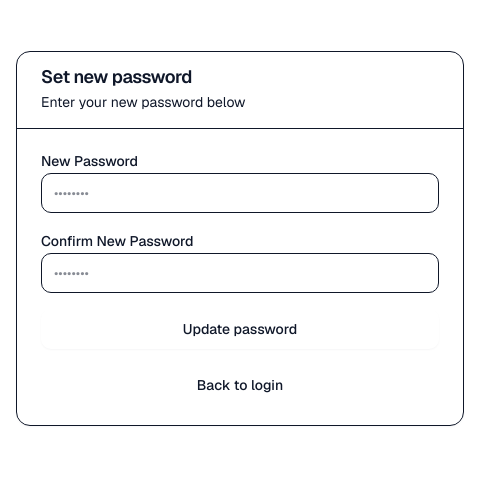
Test: ConfirmResetPasswordPage › should handle validation errors for mismatched passwords
The width and height of the screenshot is (481, 478).
In the password field labelled "New Password": (240, 192) [41,172,439,212], type "password123"
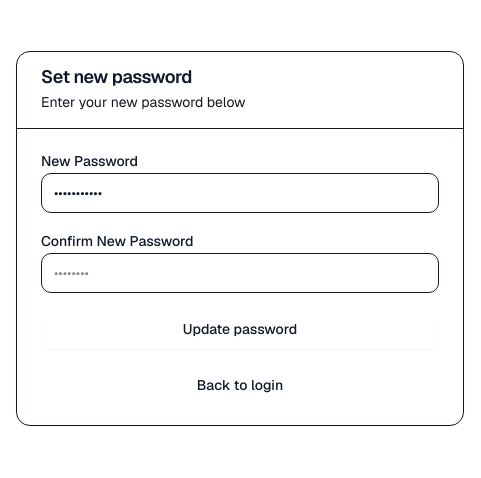
In the password field labelled "Confirm New Password": (240, 272) [41,252,439,292], type "different"
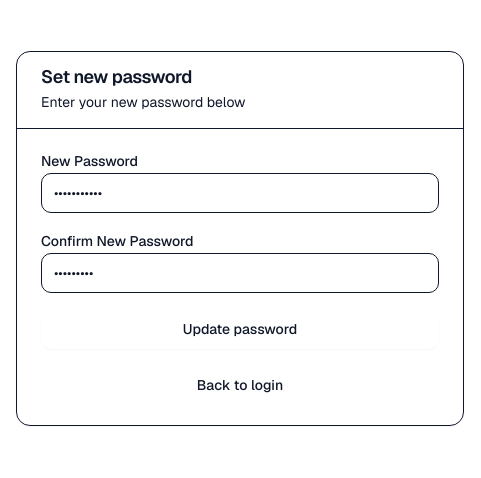
Submit the form from the button "Update password", box [41,308,439,348]
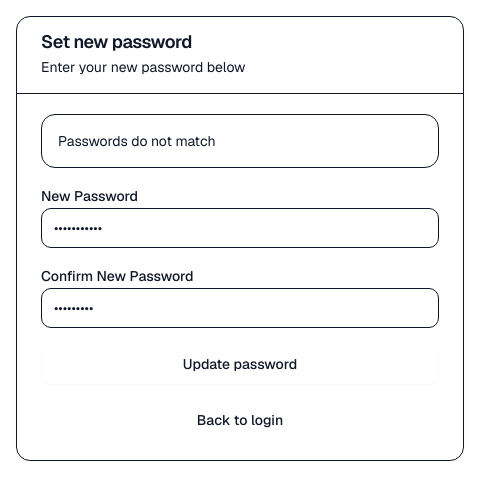
Now the text "Passwords do not match" is shown, box [58,132,216,150]
